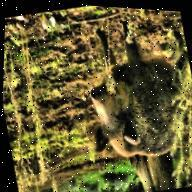boar: (61, 5, 192, 192)
